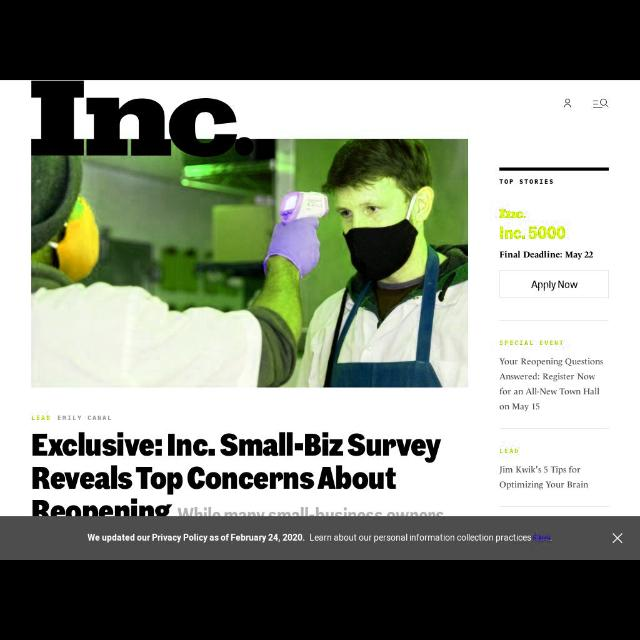icon: (594, 99, 608, 109), (612, 532, 622, 542), (564, 98, 572, 109)
image: (31, 140, 468, 388), (31, 81, 251, 155)
text: (32, 432, 444, 516), (498, 358, 604, 412), (88, 532, 552, 544), (498, 208, 568, 242), (499, 466, 587, 490), (499, 251, 593, 259), (498, 338, 564, 348), (532, 280, 578, 292), (498, 177, 554, 185), (499, 447, 519, 453)
